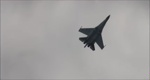maybay_muctieu: (80, 14, 109, 54)
